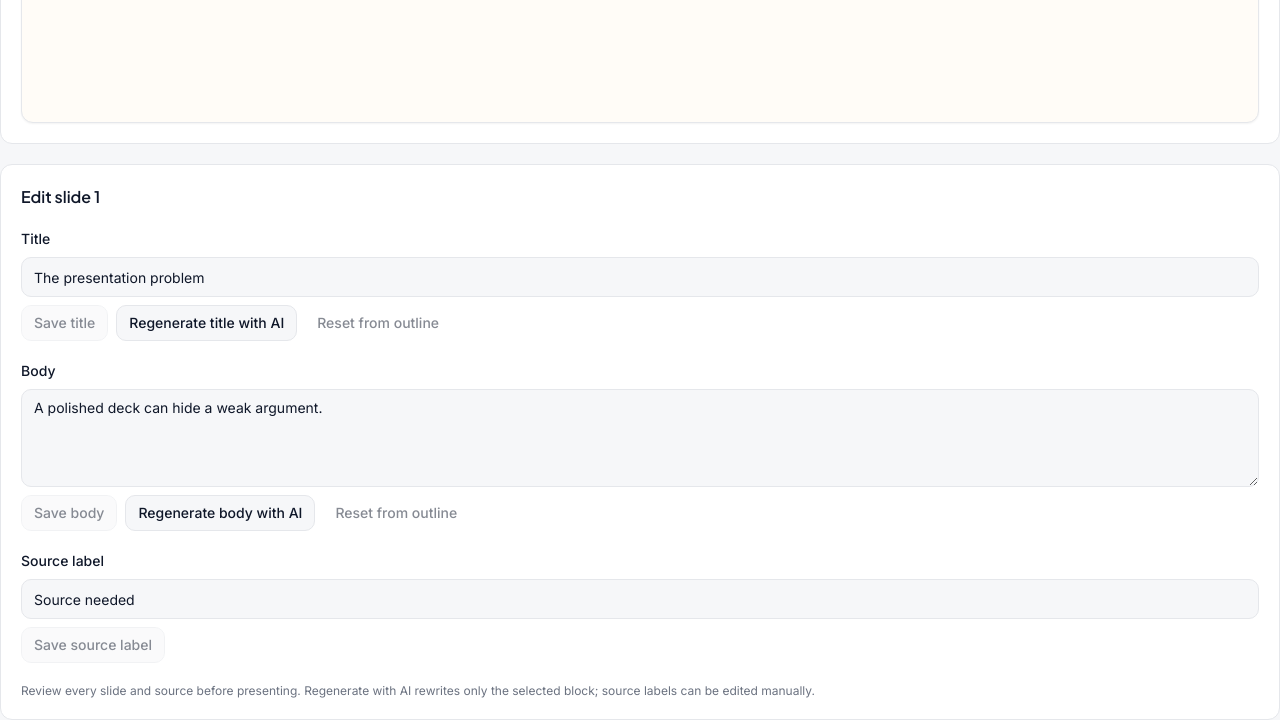
Test: Local block editor › retains a draft after a revision conflict and refreshes the saved project
(page scrolled)
Replace the text in the text box named "Body" with "Keep this draft": point(640, 438) x1=21 y1=389 x2=1259 y2=487
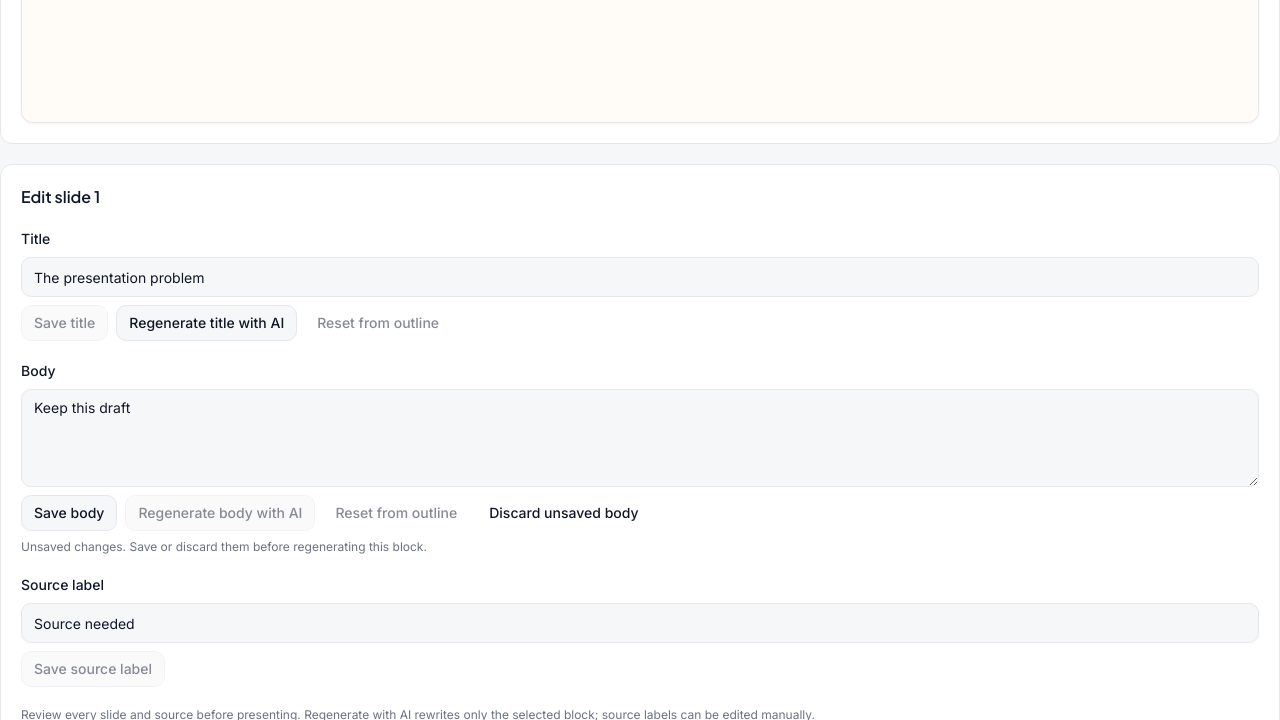
Click the button "Save body": point(69, 513) x1=21 y1=495 x2=117 y2=531
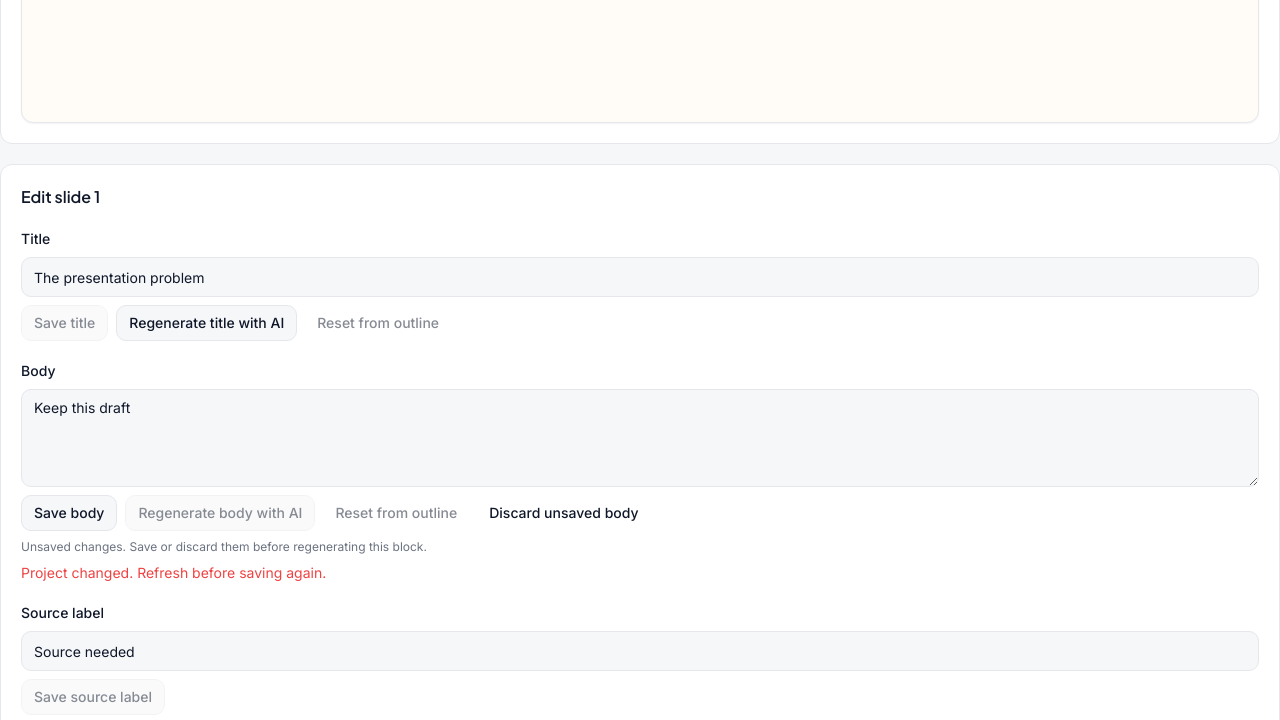
Expected: the message shows "Refresh", x1=21 y1=564 x2=326 y2=581
